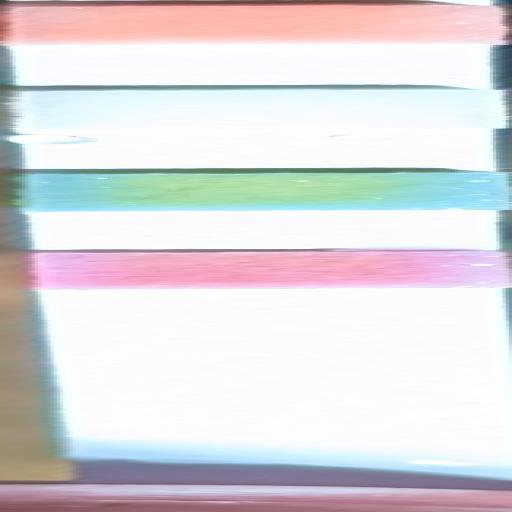pads: (0, 83, 512, 130), (0, 0, 512, 45), (0, 166, 512, 211), (0, 246, 512, 288)
